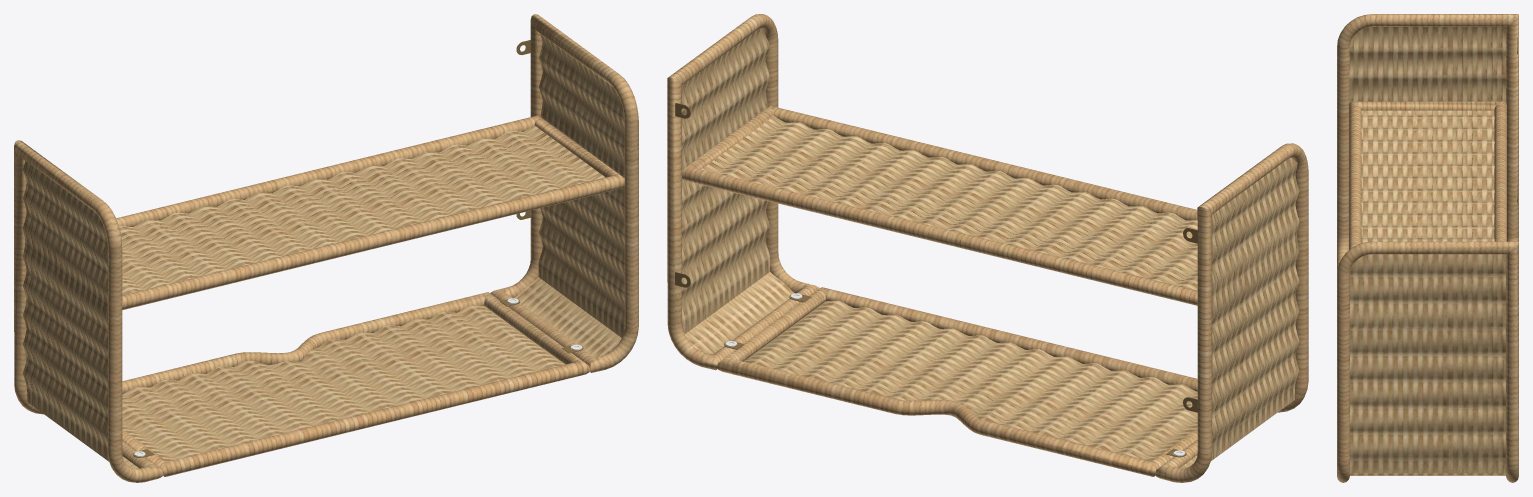
File: 06 - IKEA宜家家居線上購物-給你更多居家佈置靈感.glb
3 views of the same model, side by side, from view 1: azimuth 30°, elevation 25°; view 2: azimuth 150°, elevation 25°; view 3: azimuth 270°, elevation 25° (orthographic). The views are drawn at different scales.
Visible parts, largest first — view 1: Mesh_0; view 2: Mesh_0; view 3: Mesh_0.
Part boxes in pixels (box(x1,y1,x2,y2)): Mesh_0: box(14, 14, 638, 482); Mesh_0: box(667, 14, 1308, 482); Mesh_0: box(1337, 14, 1518, 482).
Size of the model in its own units: 0.5992 by 0.3001 by 0.1979.
Materials: 1 (1 with a texture image).
